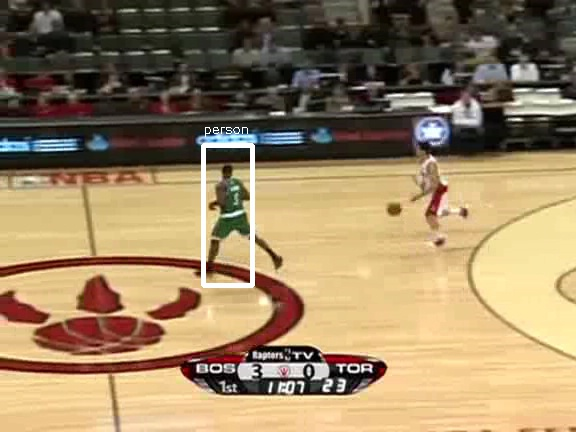person: (217, 169, 251, 250), (216, 169, 250, 250), (218, 169, 252, 250), (217, 168, 251, 249), (217, 170, 251, 251)
target_negative: (276, 324, 402, 422), (225, 257, 394, 285), (413, 180, 557, 198), (498, 153, 513, 308), (520, 338, 570, 346), (403, 425, 575, 427)
